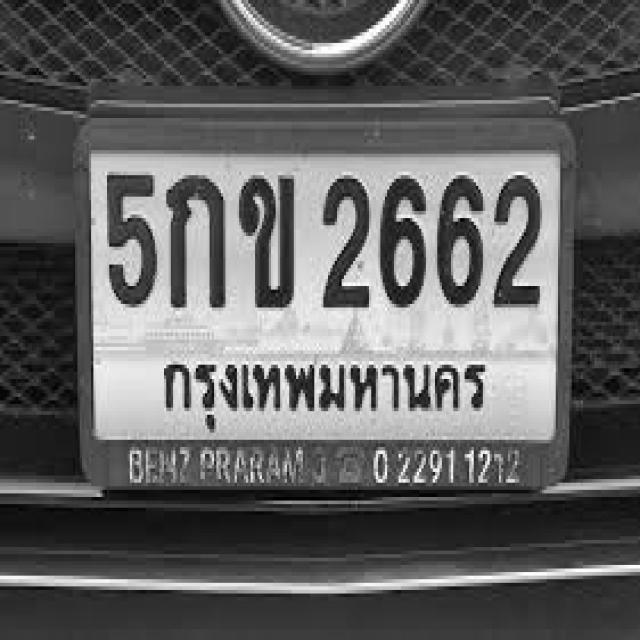license_plate: (77, 140, 577, 449)
